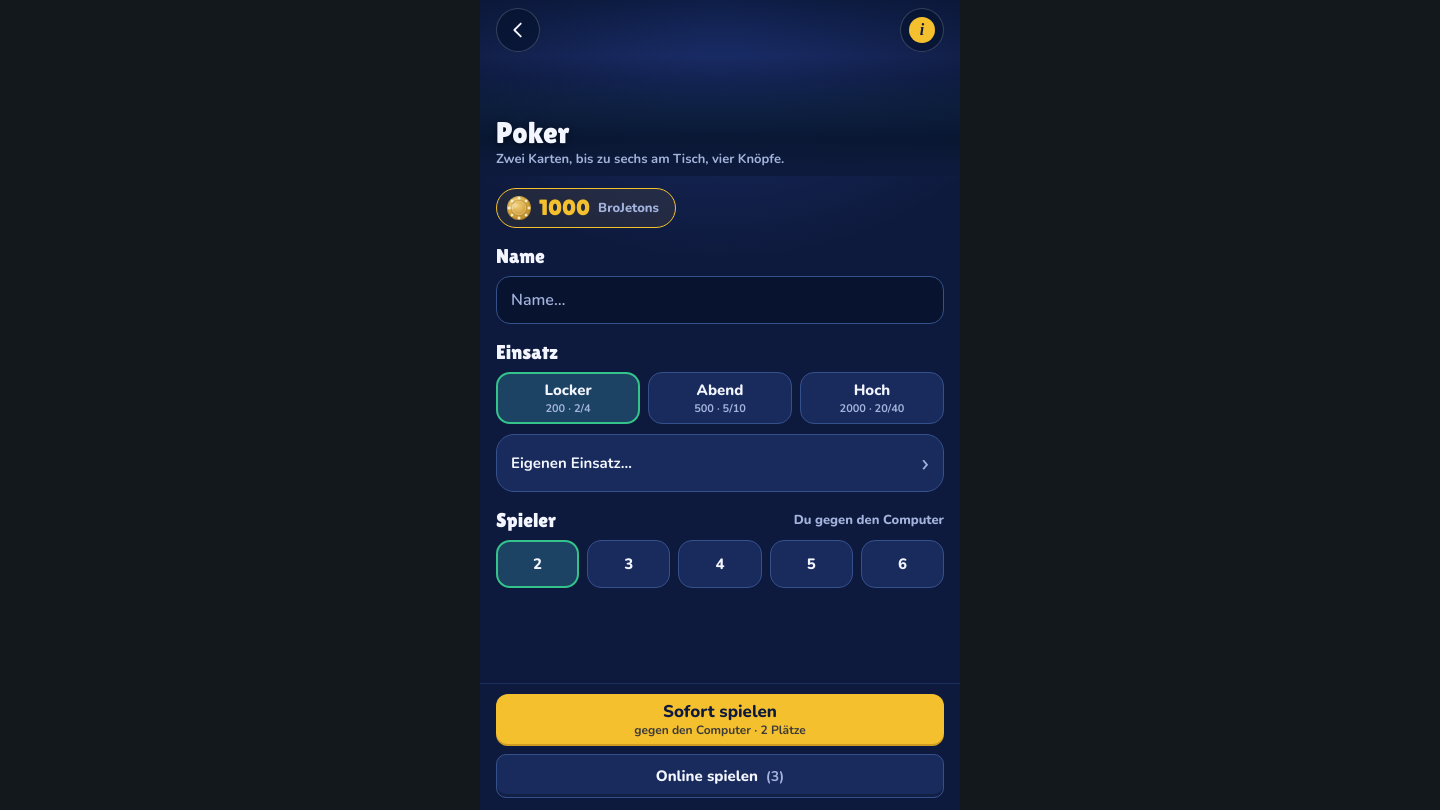
Test: Poker im neuen Hub › öffnet die Regeln als Blatt
The image size is (1440, 810).
Click the button named "Regeln nachlesen" at (922, 30), box [900,8,944,52]
(page scrolled)
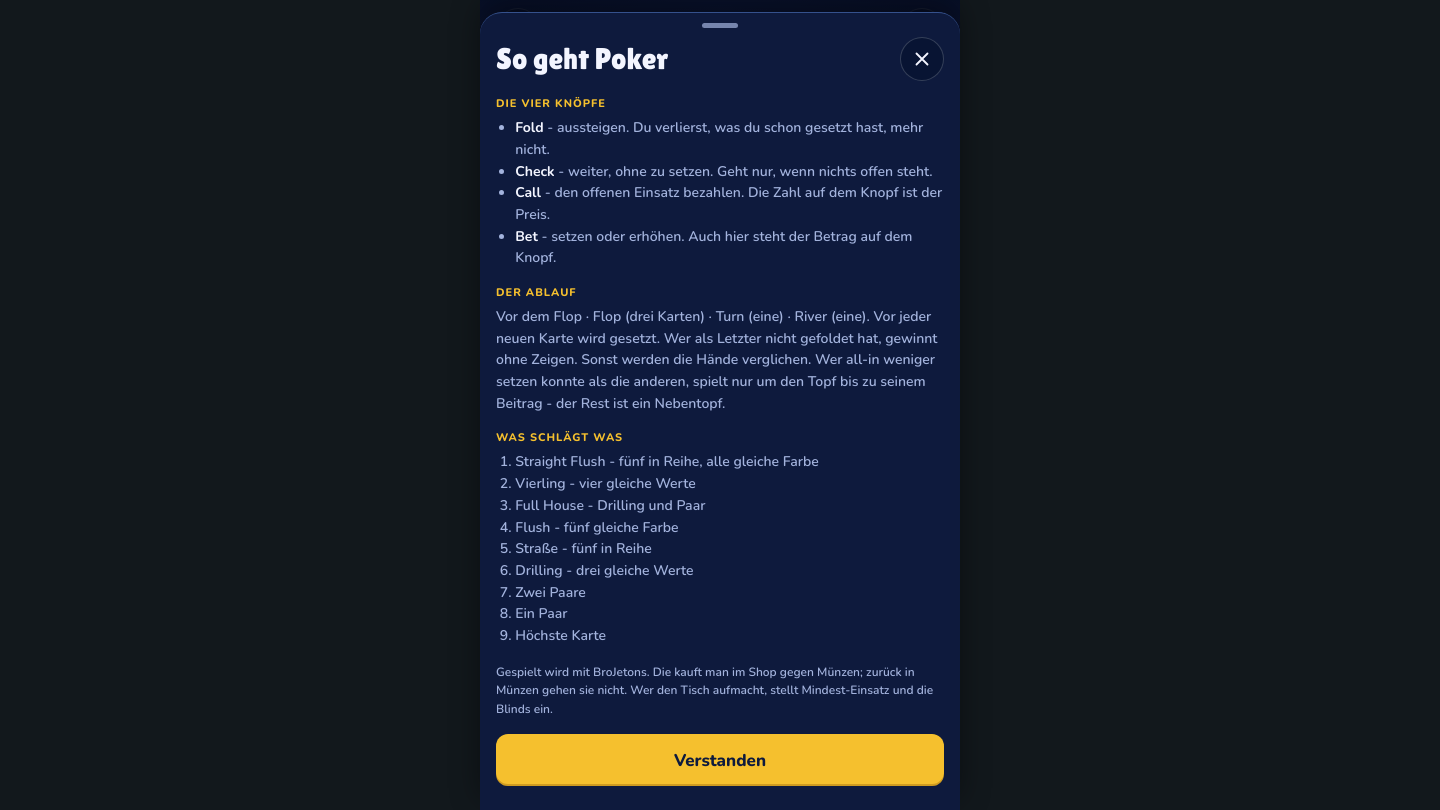
Check: the dialog "So geht Poker" is shown, box [480,12,960,809]
Click the button "Verstanden" at (720, 760), box [496,734,944,786]
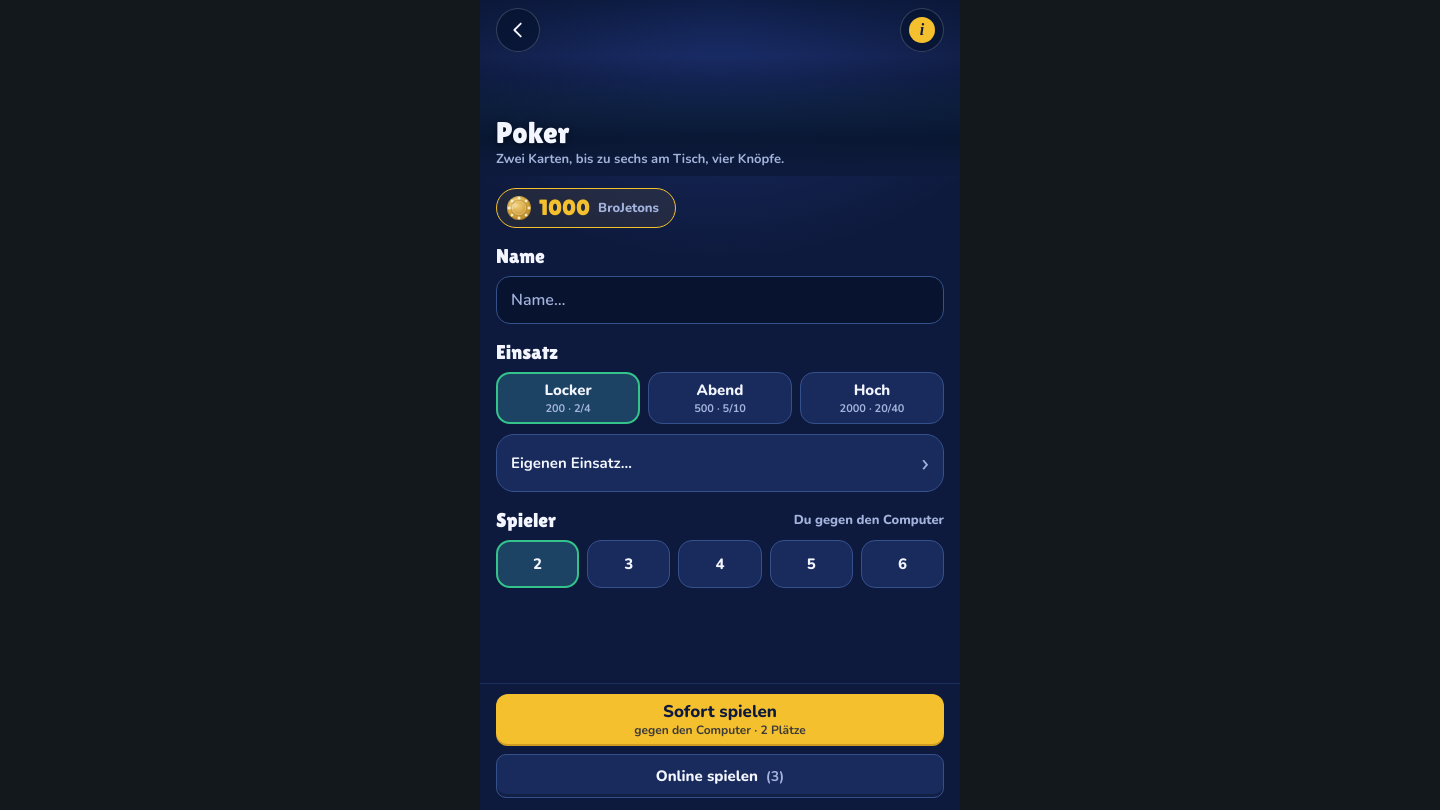
Check: the heading "So geht Poker" is gone
